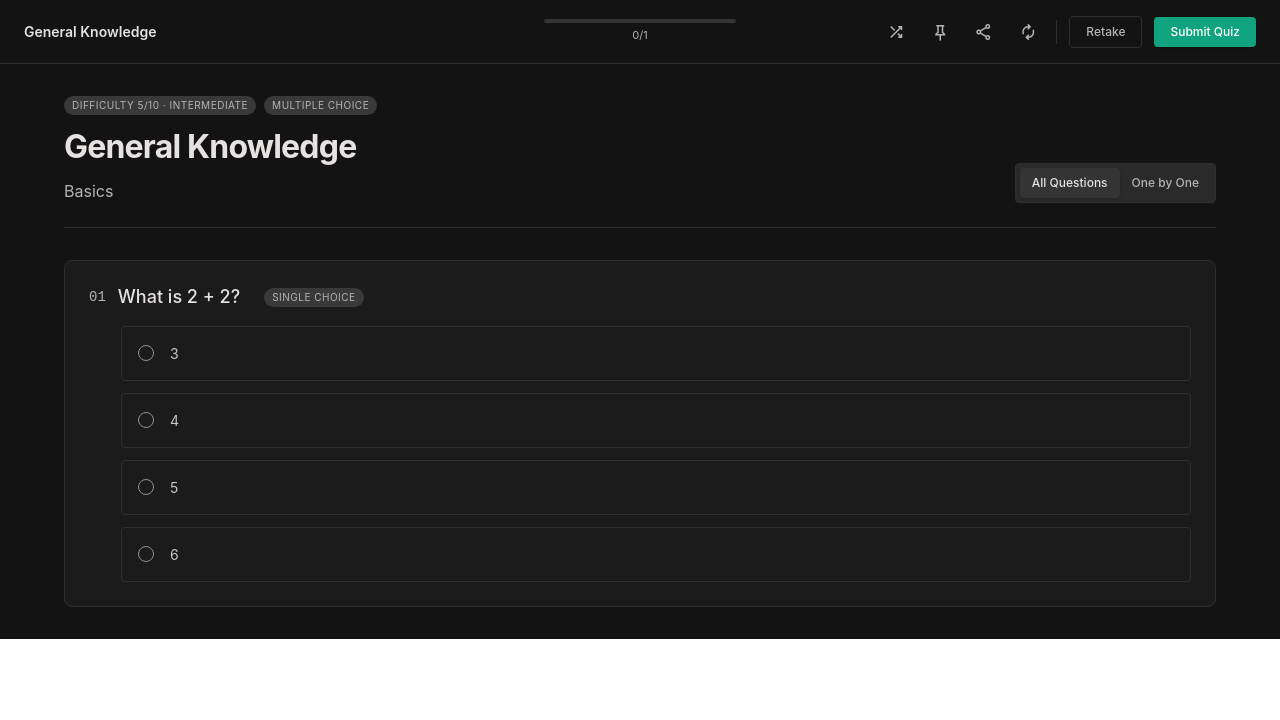
Test: QuizPage draft persistence › clears the draft only after a successful submit
What coordinates should you click on to do the following:
click the radio button labelled "4"
I would click on:
 (146, 420)
Its box is [121,393,1191,448].
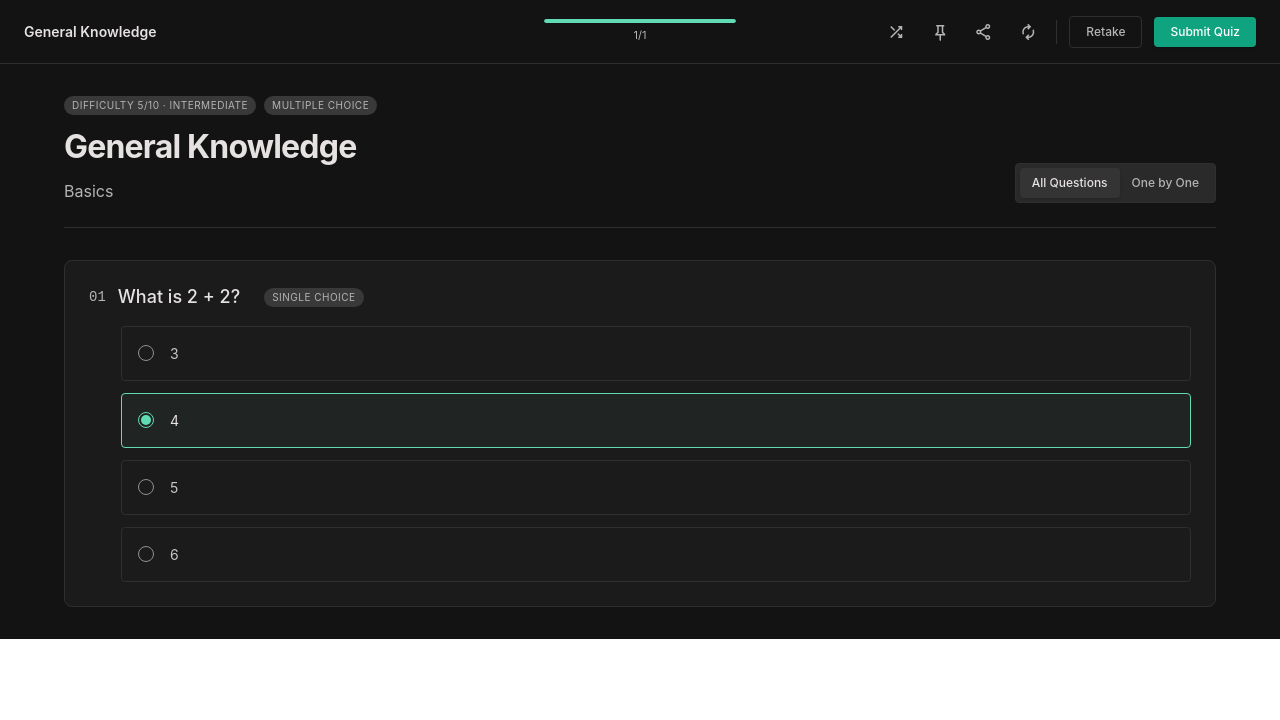
What coordinates should you click on to do the following:
click the button "Submit Quiz"
I would click on:
 (1205, 32)
Its box is [1154,16,1256,46].
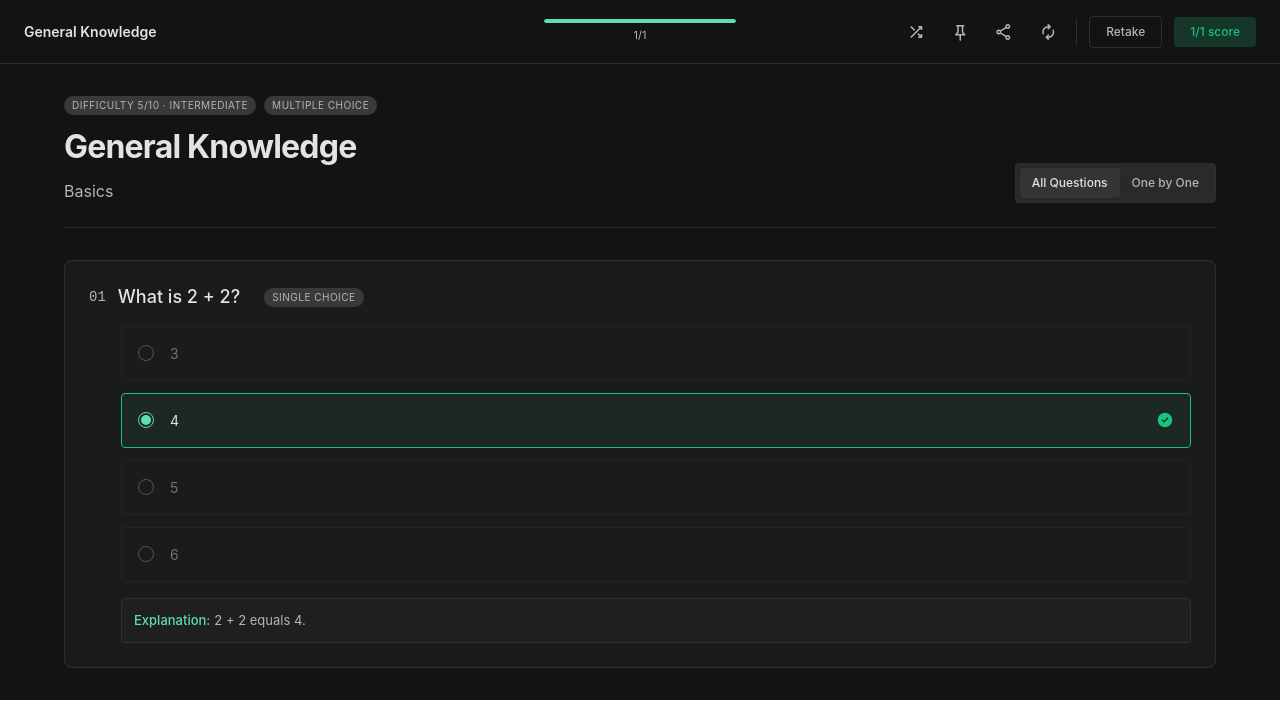
Result: the text "1/1 score" is shown at [1174,16,1256,46]
